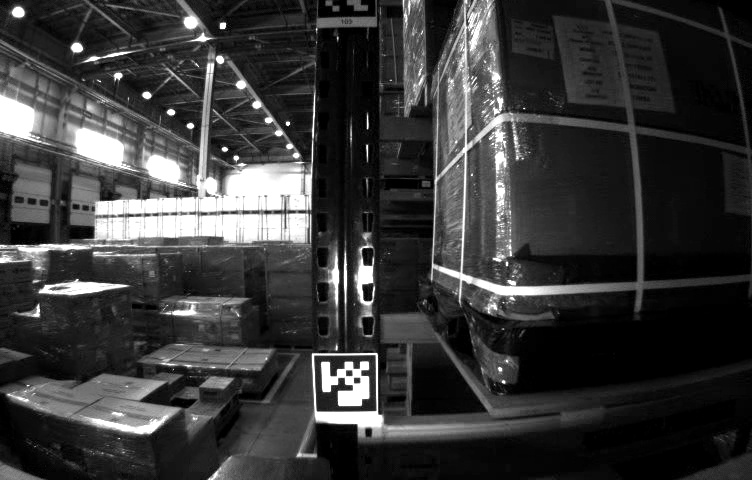True Barcode: (510, 16, 556, 60)
